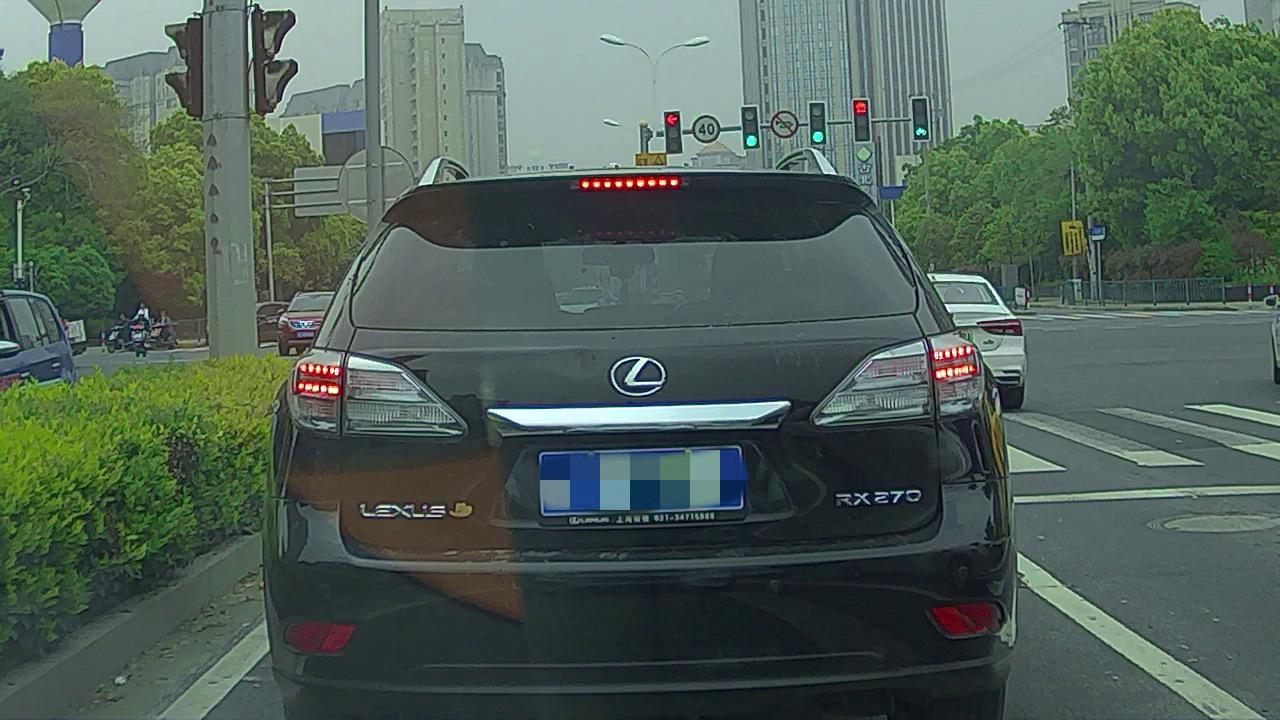traffic_light: (912, 98, 930, 141), (854, 99, 871, 143), (665, 110, 682, 152), (743, 107, 760, 148), (810, 102, 822, 144)
